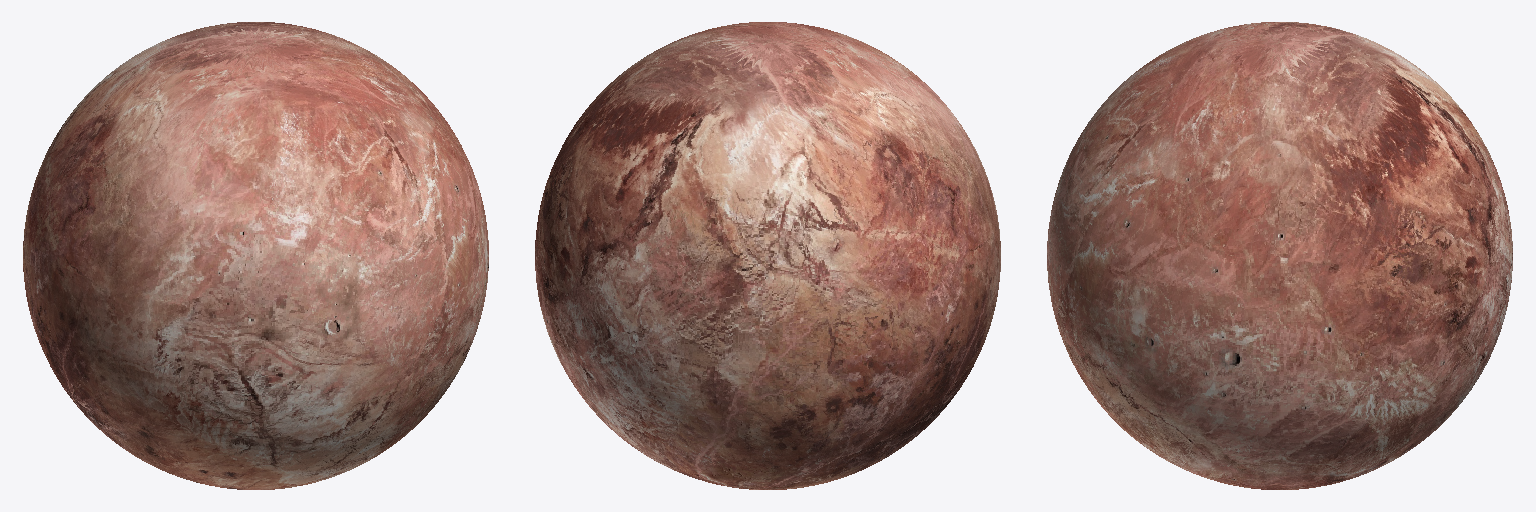
3 views of the same model, side by side, from view 1: azimuth 30°, elevation 25°; view 2: azimuth 150°, elevation 25°; view 3: azimuth 270°, elevation 25° (orthographic).
Parts seen in each view (by area): view 1: Sphere; view 2: Sphere; view 3: Sphere.
Boxes of the visible parts, x1=… form: Sphere: x1=23, y1=22, x2=488, y2=489; Sphere: x1=535, y1=22, x2=1000, y2=489; Sphere: x1=1047, y1=22, x2=1512, y2=489.
Bounding box in the file's own units: 1.97 × 2 × 1.97.
1 materials, 1 textured.